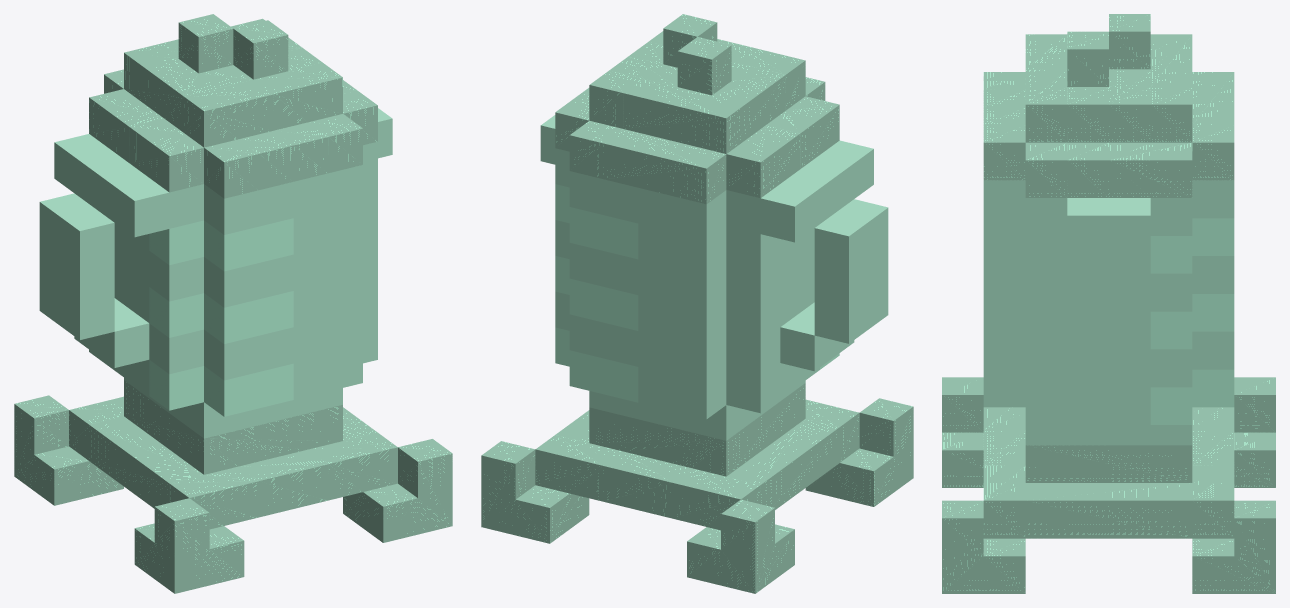
File: Blender.obj
The picture shows the model from 3 angles, left to right: view 1: azimuth 30°, elevation 25°; view 2: azimuth 150°, elevation 25°; view 3: azimuth 270°, elevation 25°; orthographic projection. The views are drawn at different scales.
Size of the model in its own units: 0.9 by 1.3 by 0.8.
